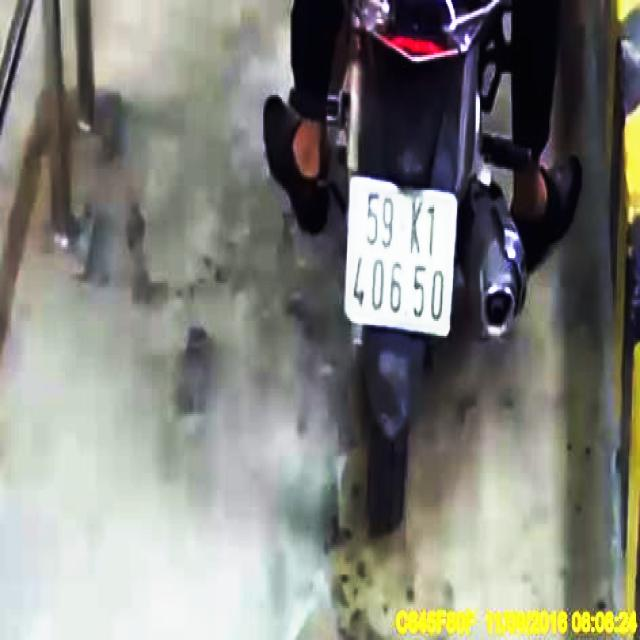license_plate: (346, 181, 455, 336)
